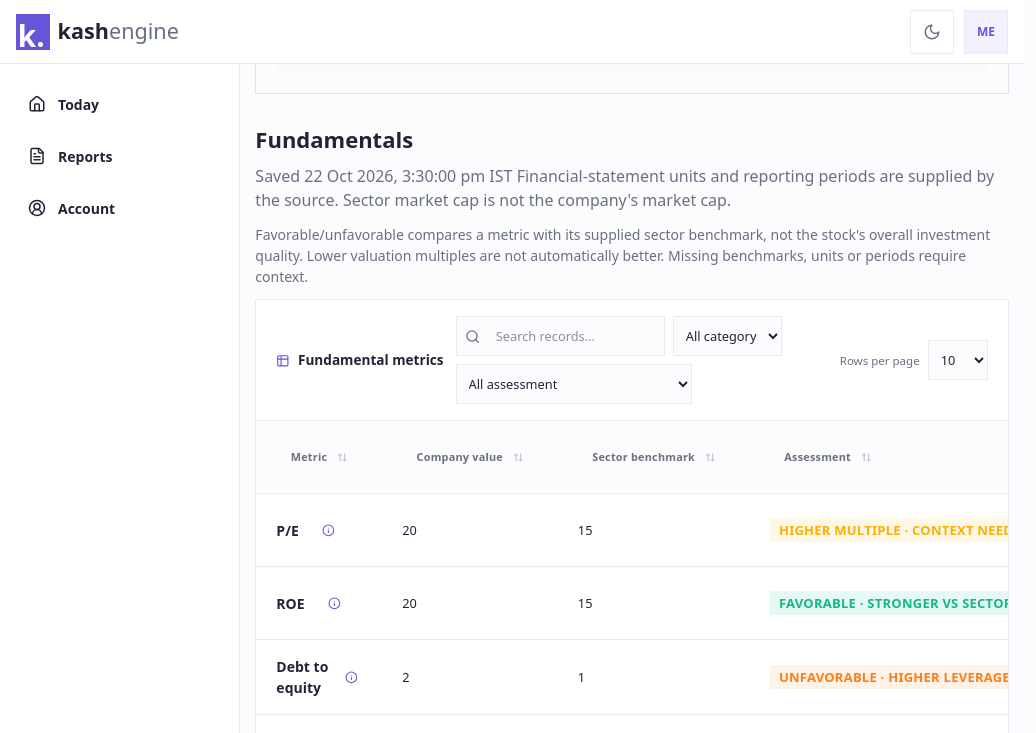
renders saved company data and a history-only trend projection
(page scrolled)
Expected: the link "Company story" is not shown
Expected: the text "P/E" is shown, [276,520,299,541]
Select "Favorable · stronger vs sector" in the dropdown named "Assessment" at x=574, y=384, box [456,364,692,404]
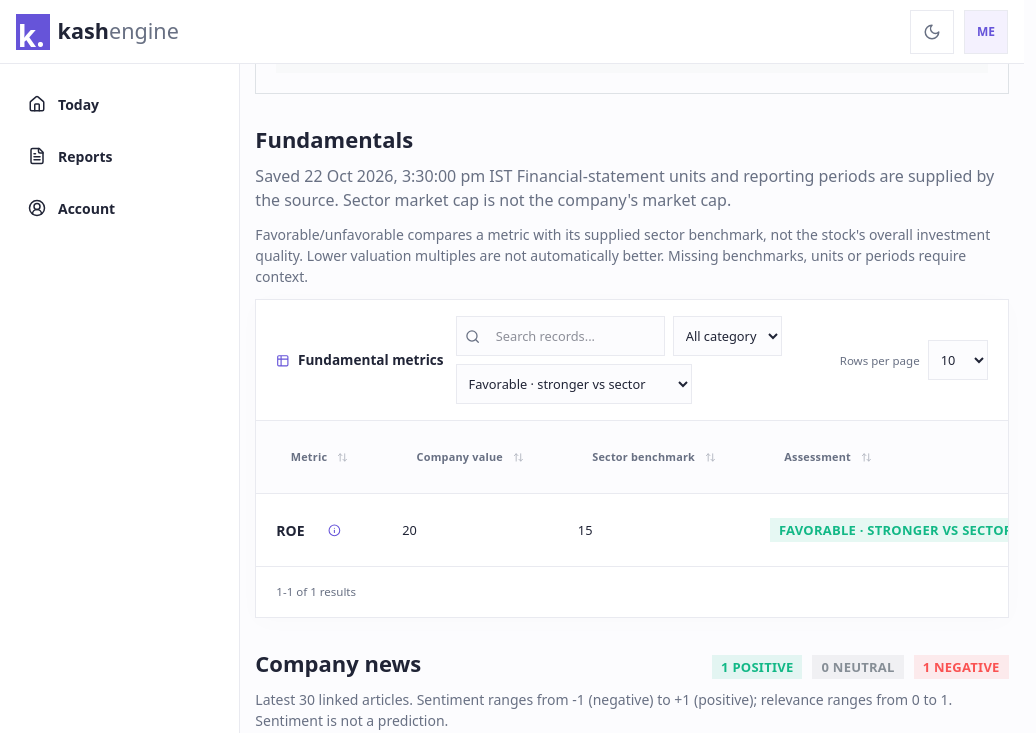
Now the text "ROE" is shown, box [276,520,305,541]
Now the text "Debt to equity" is gone
Select "All assessment" in the dropdown named "Assessment" at x=574, y=384, box [456,364,692,404]
(page scrolled)
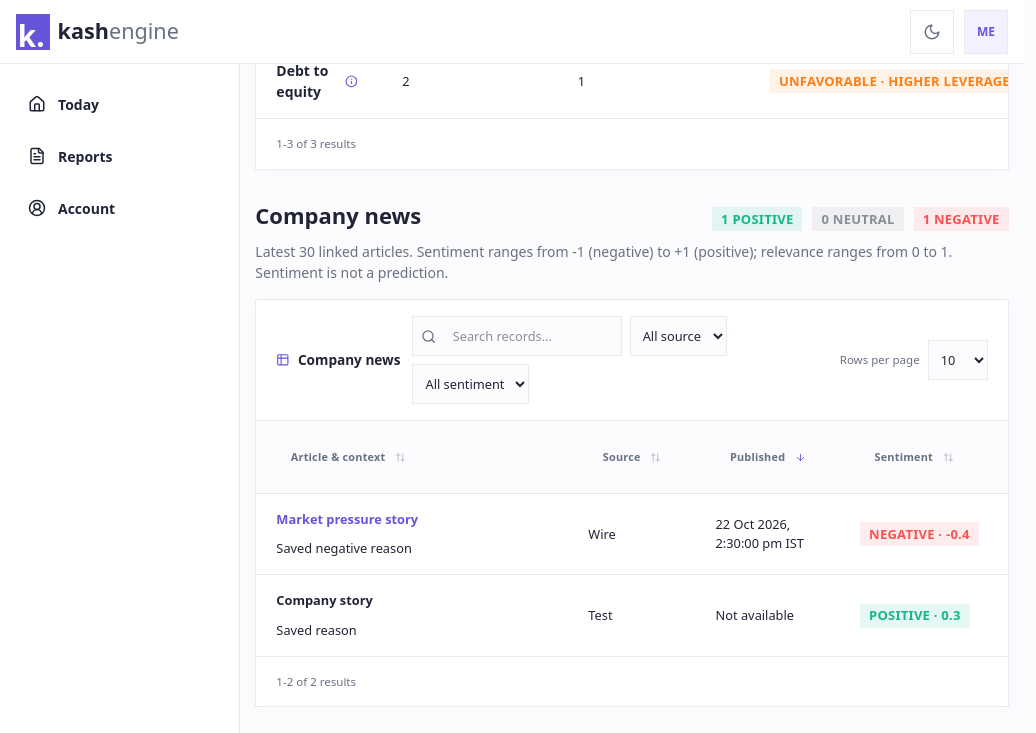
Expected: the element named "Company news table, scroll horizontally for more columns" is shown, [256,420,1008,656]
Expected: the text "Positive · 0.3" is shown, [869,609,961,622]
Select "Negative" in the dropdown named "Sentiment" at x=471, y=384, box [412,364,530,404]
(page scrolled)
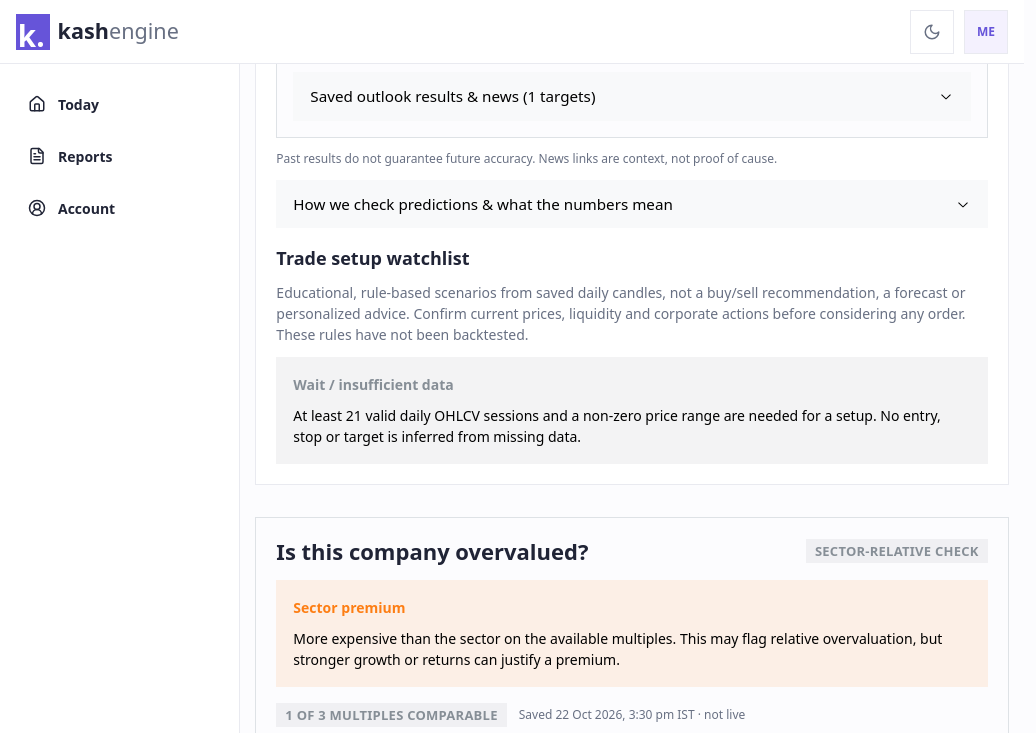
Expected: the text "not been backtested" is shown, [276,283,966,344]
Now the text "Company story" is gone
